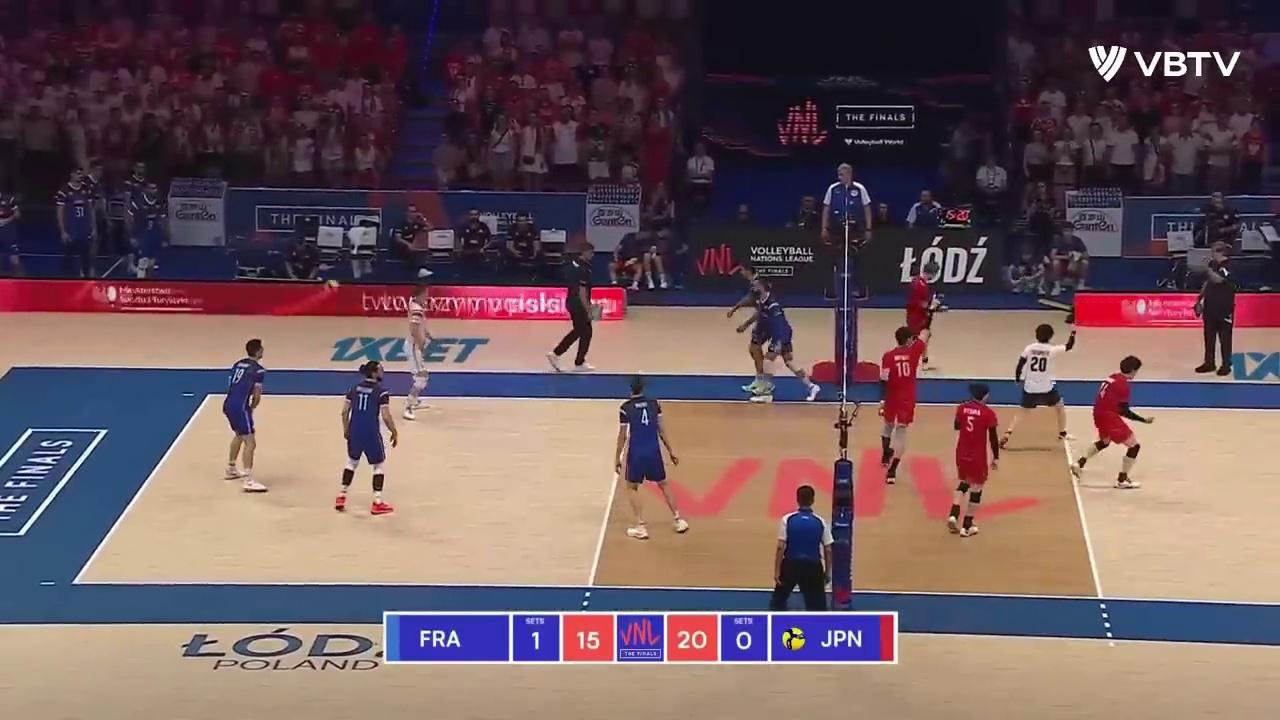ball: (324, 280, 339, 293)
